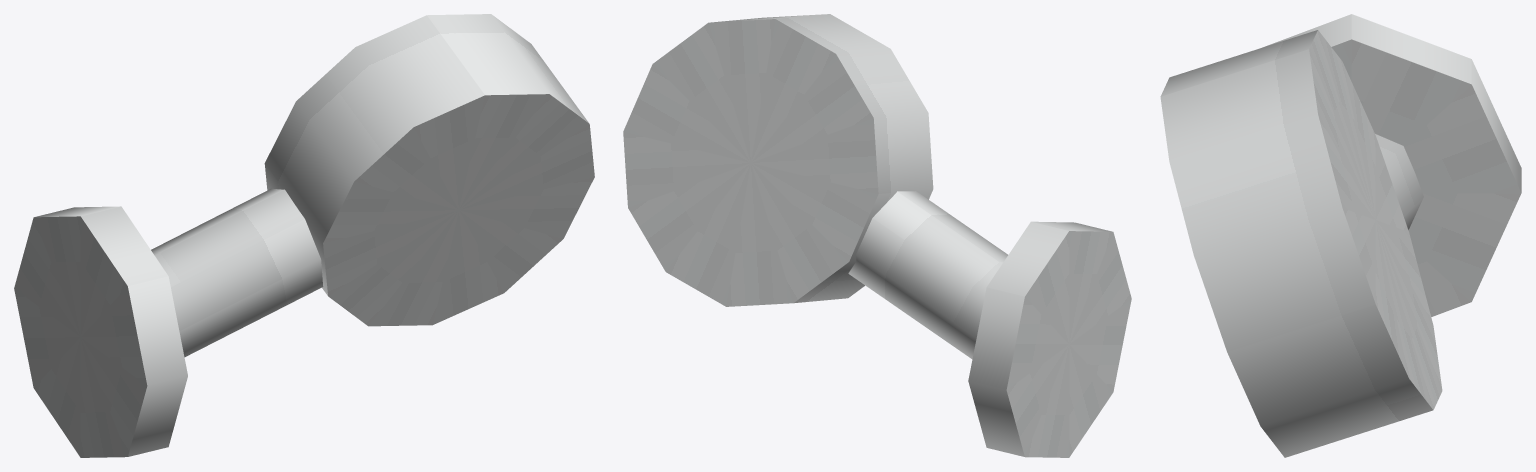
The model's file is nycsignalarm_stub_2.obj.
3 renders of one model, left to right at view 1: azimuth 30°, elevation 25°; view 2: azimuth 150°, elevation 25°; view 3: azimuth 270°, elevation 25°, orthographic. The views are drawn at different scales.
Visible parts, largest first — view 1: nycsignalarm_stub_2; view 2: nycsignalarm_stub_2; view 3: nycsignalarm_stub_2.
Boxes of the visible parts, x1,y1,x2,y2 form: nycsignalarm_stub_2: (14,14,594,457); nycsignalarm_stub_2: (623,14,1131,457); nycsignalarm_stub_2: (1160,14,1521,457).
Size of the model in its own units: 0.7055 by 0.5429 by 0.3721.
